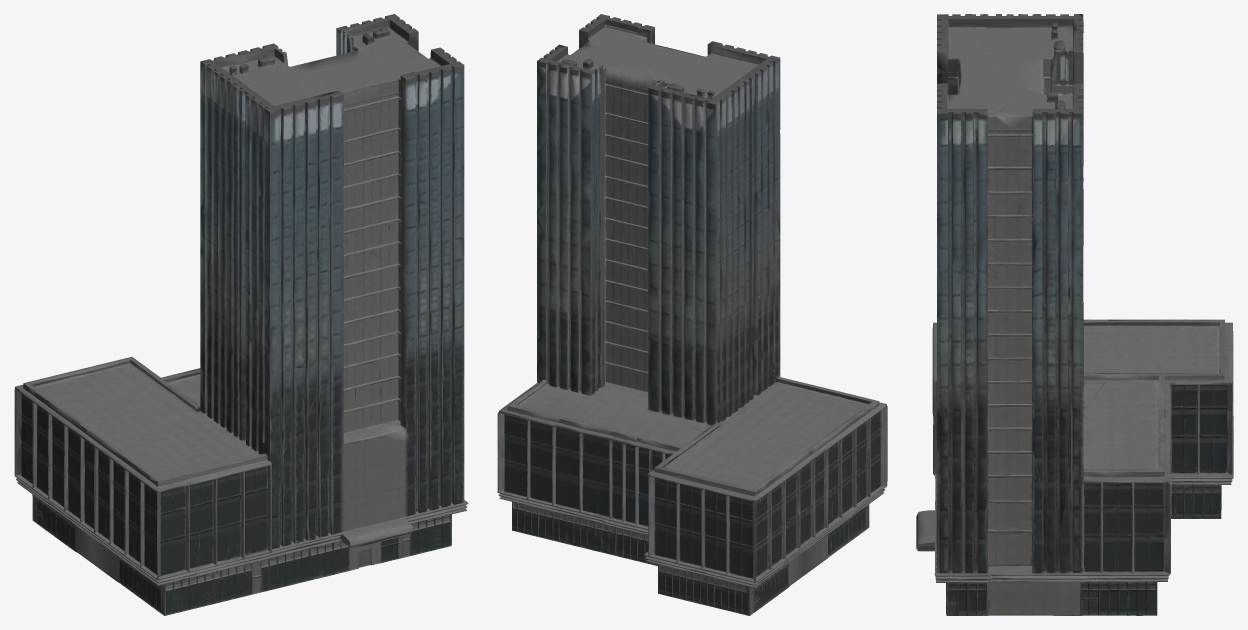
The model's file is b5484a5d-2f58-4dba-8665-1d12501d0e5a.glb.
The picture shows the model from 3 angles, left to right: view 1: azimuth 30°, elevation 25°; view 2: azimuth 150°, elevation 25°; view 3: azimuth 270°, elevation 25°; orthographic projection. The views are drawn at different scales.
Bounding box in the file's own units: 1.29 × 1.9 × 1.08.
1 material, 1 textured.
